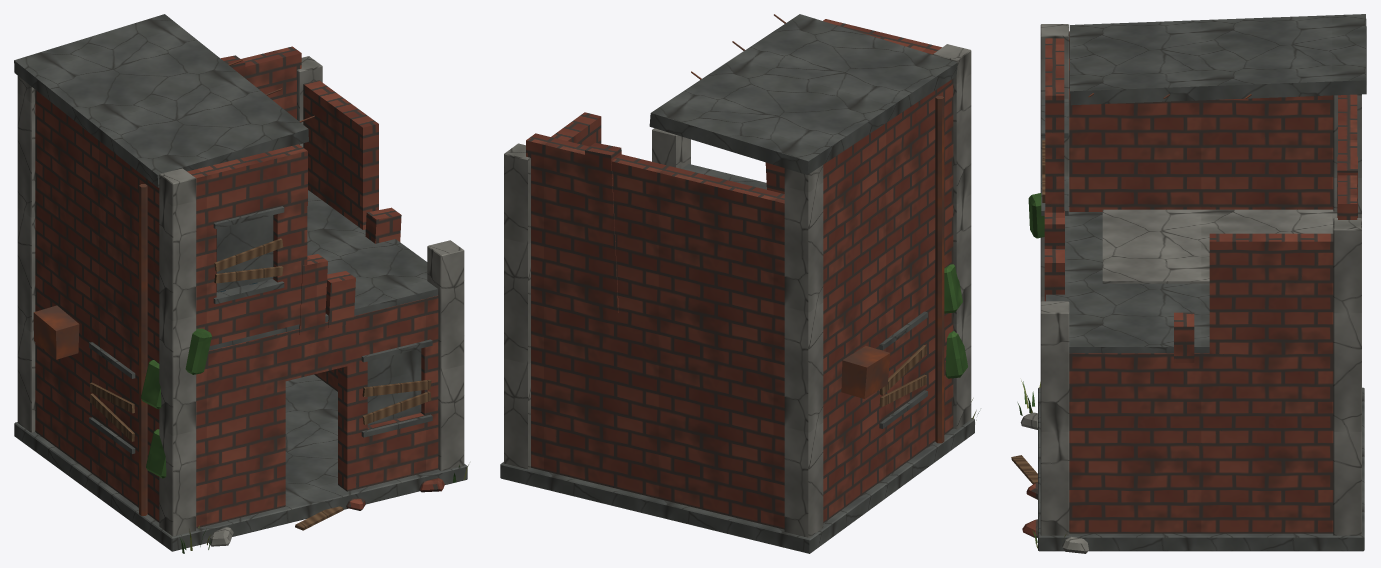
Rendered from env_building_ruined_corner.glb.
3 views of the same model, side by side, from view 1: azimuth 30°, elevation 25°; view 2: azimuth 150°, elevation 25°; view 3: azimuth 270°, elevation 25° (orthographic). The views are drawn at different scales.
Visible parts, largest first — view 1: Env_building_ruined_corner; view 2: Env_building_ruined_corner; view 3: Env_building_ruined_corner.
Part boxes in pixels (x1=…): Env_building_ruined_corner: x1=14, y1=14, x2=468, y2=553; Env_building_ruined_corner: x1=500, y1=14, x2=979, y2=553; Env_building_ruined_corner: x1=1011, y1=14, x2=1366, y2=553.
Bounding box in the file's own units: 5.64 × 6.49 × 5.22.
8 materials, 7 textured.
